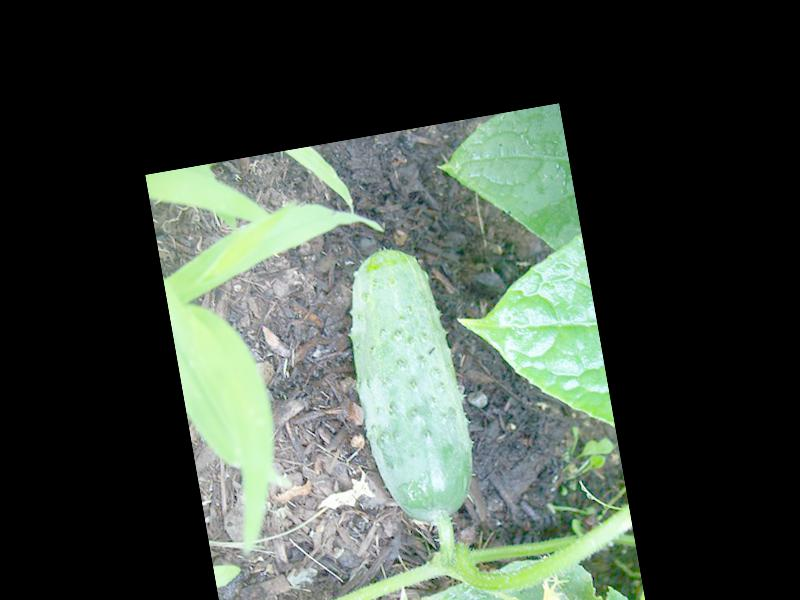Cucumber: (333, 237, 483, 530)
